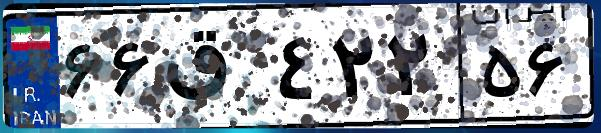2: (385, 28, 445, 110), (330, 28, 385, 110)
4: (270, 28, 330, 110)
5: (475, 38, 525, 113)
6: (57, 26, 110, 100), (525, 38, 570, 115), (110, 28, 158, 98)
ق: (158, 20, 270, 120)
